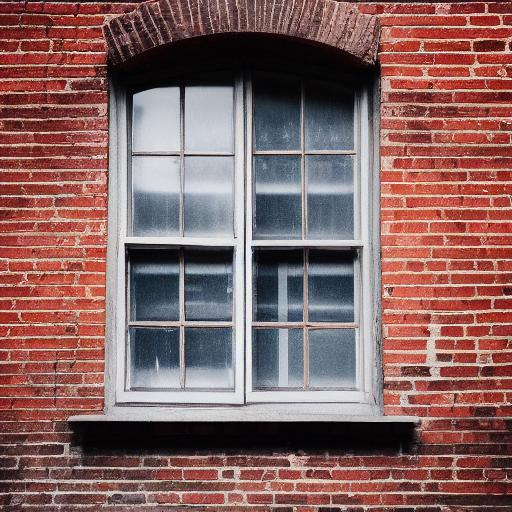Window: (63, 0, 425, 430)
